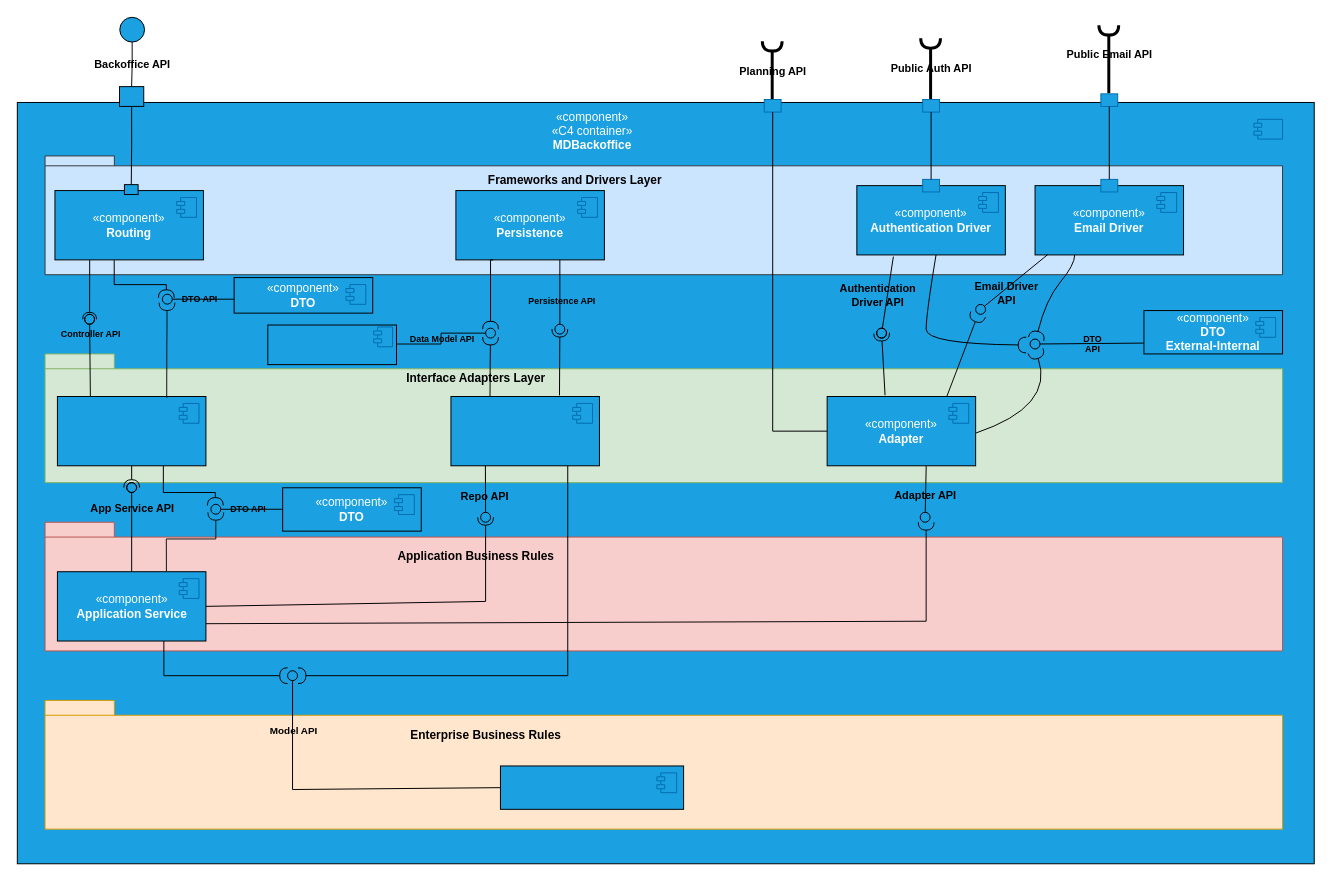
Image size: 1332x882. Some labels were removed from this diagram. Each missing label, with the centre of its shape:
«component» Controller: pixel 131 431
«component» Data Model: pixel 331 344
«component» Domain Model (DDD): pixel 591 787
«component» Repository: pixel 524 431
